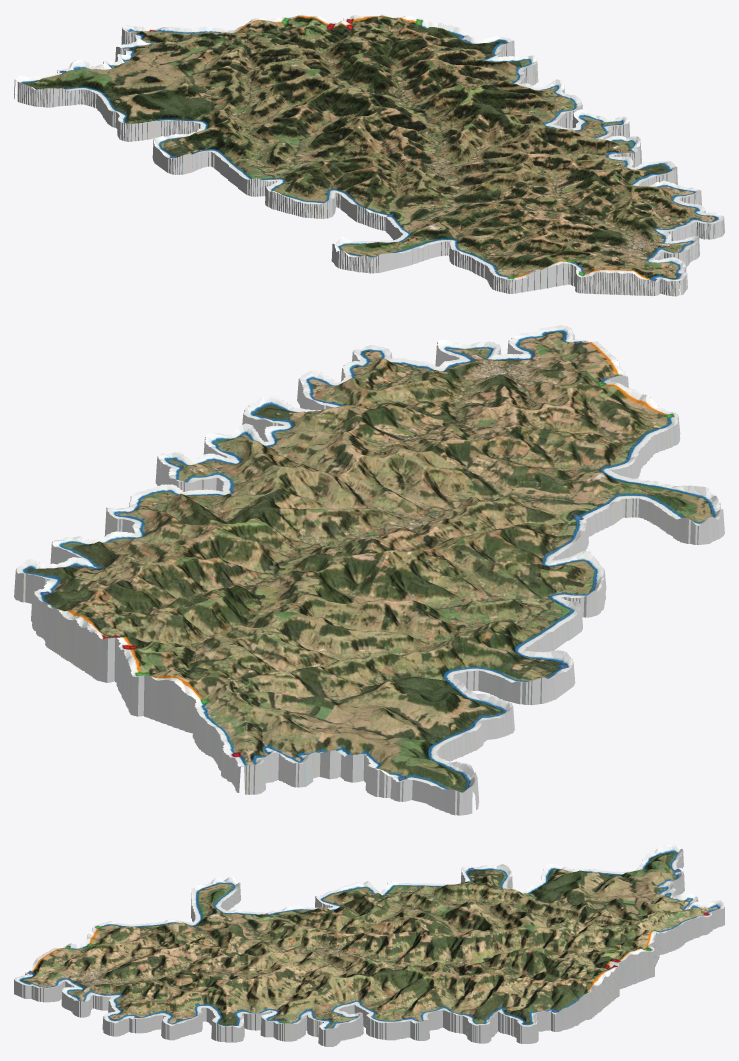
3 renders of one model, top to bottom at view 1: azimuth 30°, elevation 25°; view 2: azimuth 150°, elevation 25°; view 3: azimuth 270°, elevation 25°, orthographic. The views are drawn at different scales.
Bounding box in the file's own units: 0.9999 × 0.0841 × 1.62.
1 material, 1 textured.
